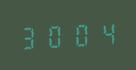four: (93, 18, 117, 47)
three: (18, 22, 42, 51)
zero: (68, 19, 92, 48), (43, 21, 67, 49)
